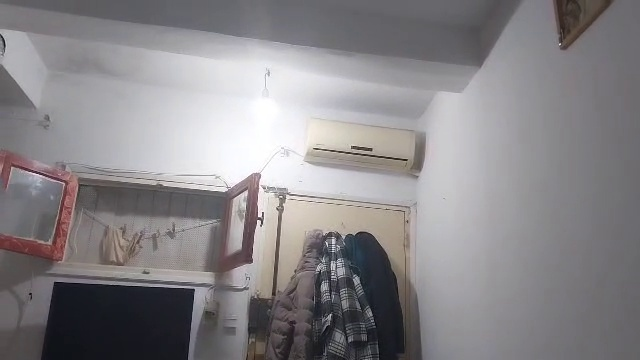air_conditioner: (300, 108, 428, 176)
